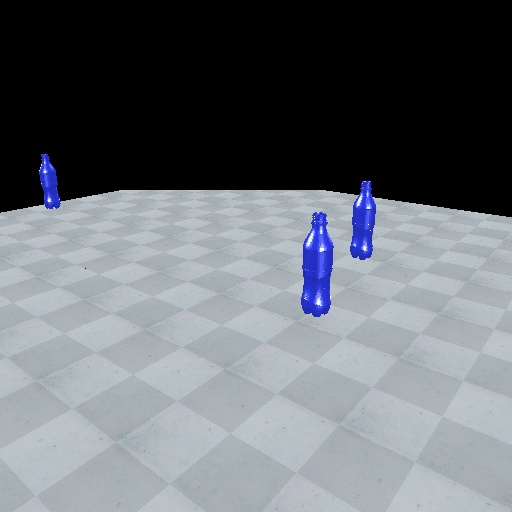bottle: (300, 210, 335, 320), (348, 177, 378, 260), (36, 152, 62, 210)
